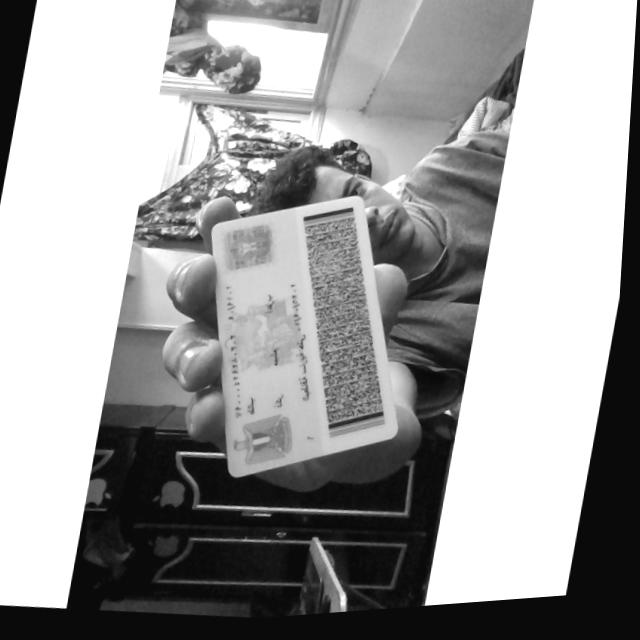id_card: (212, 196, 396, 476)
